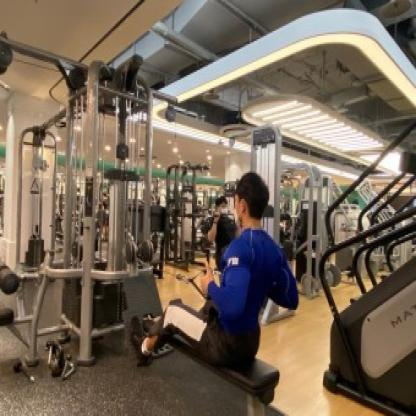Seated Cable Rows: (24, 62, 319, 416)
